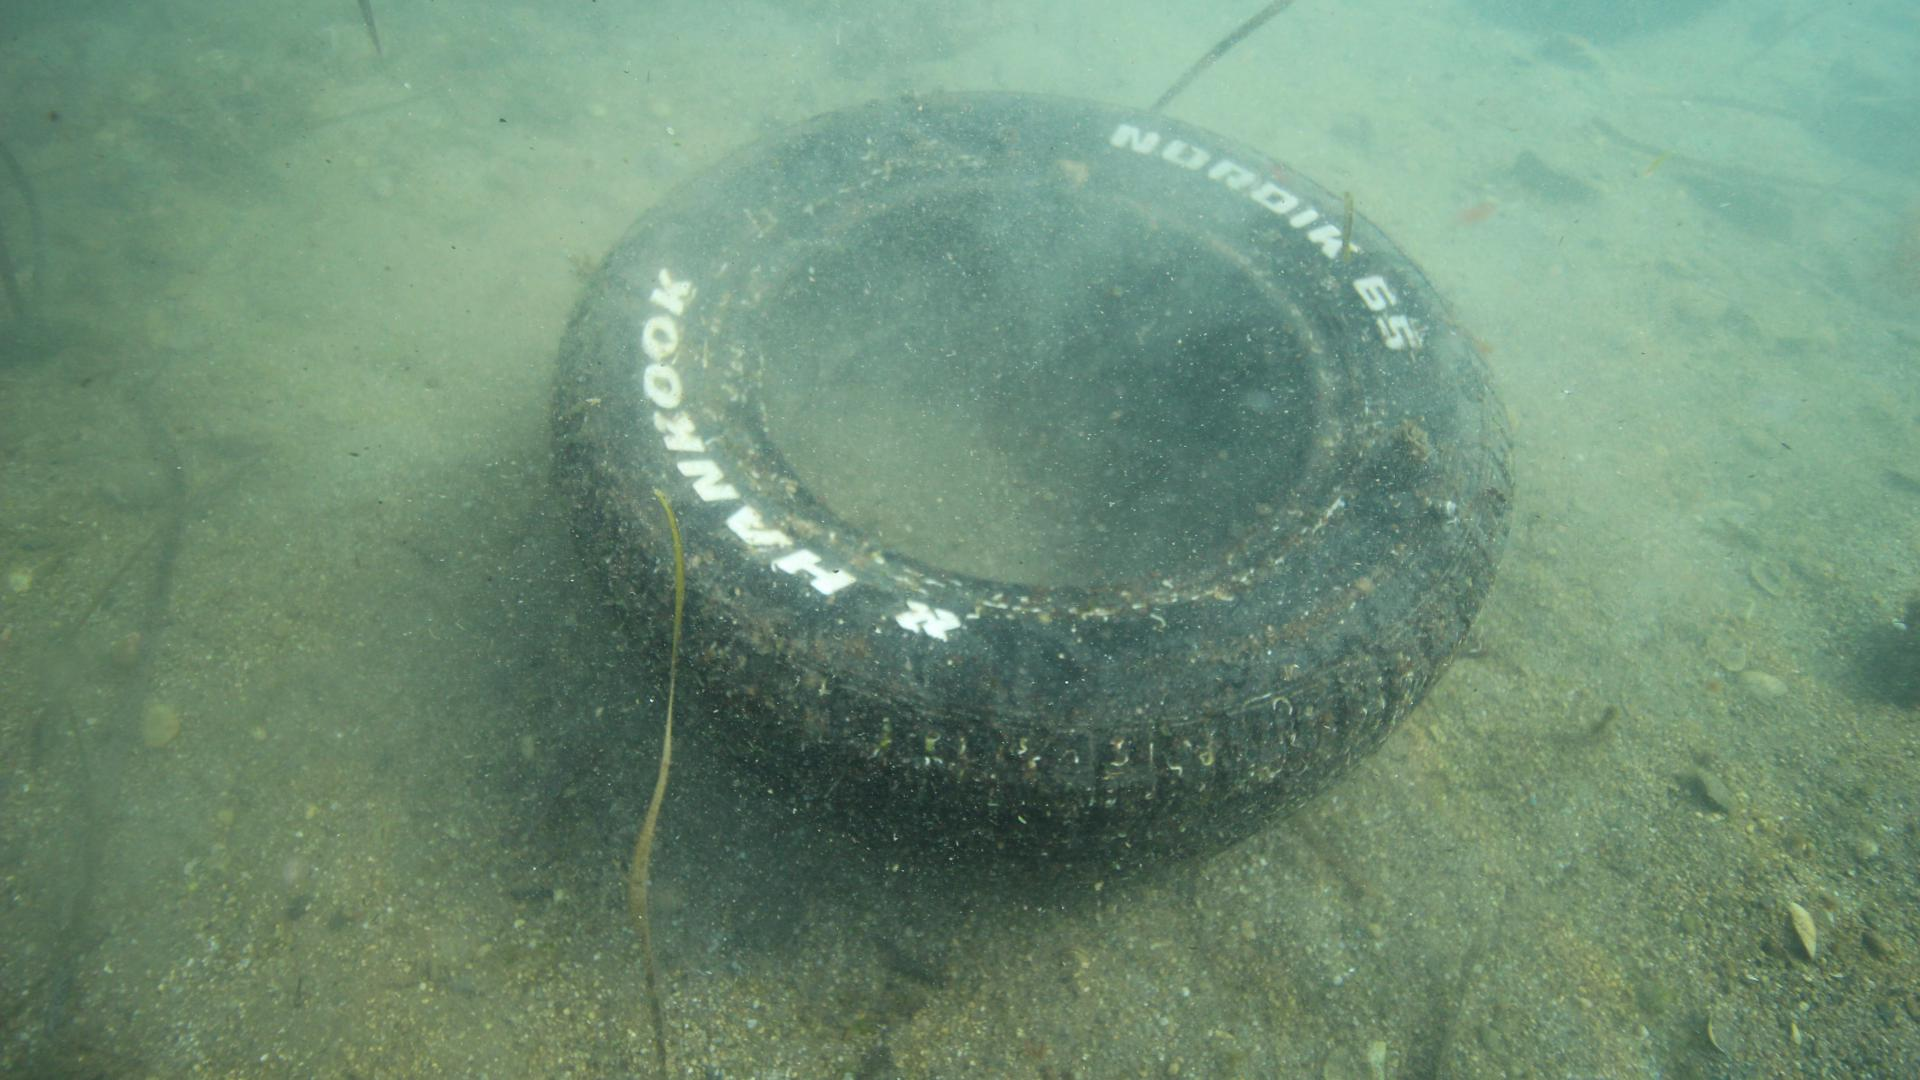tire: (539, 94, 1515, 835)
